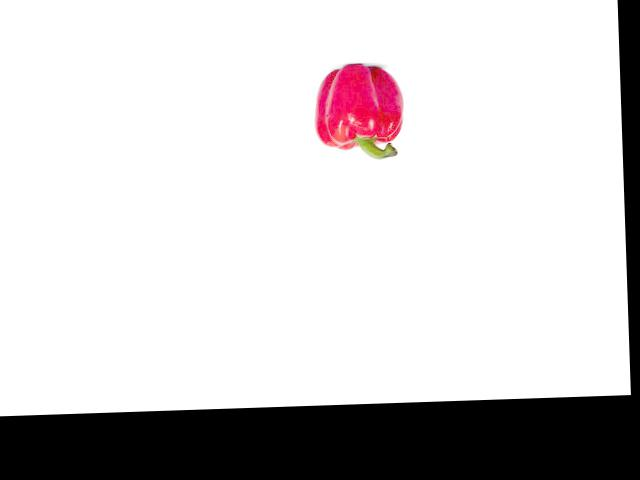bell_pepper: (307, 63, 407, 163)
